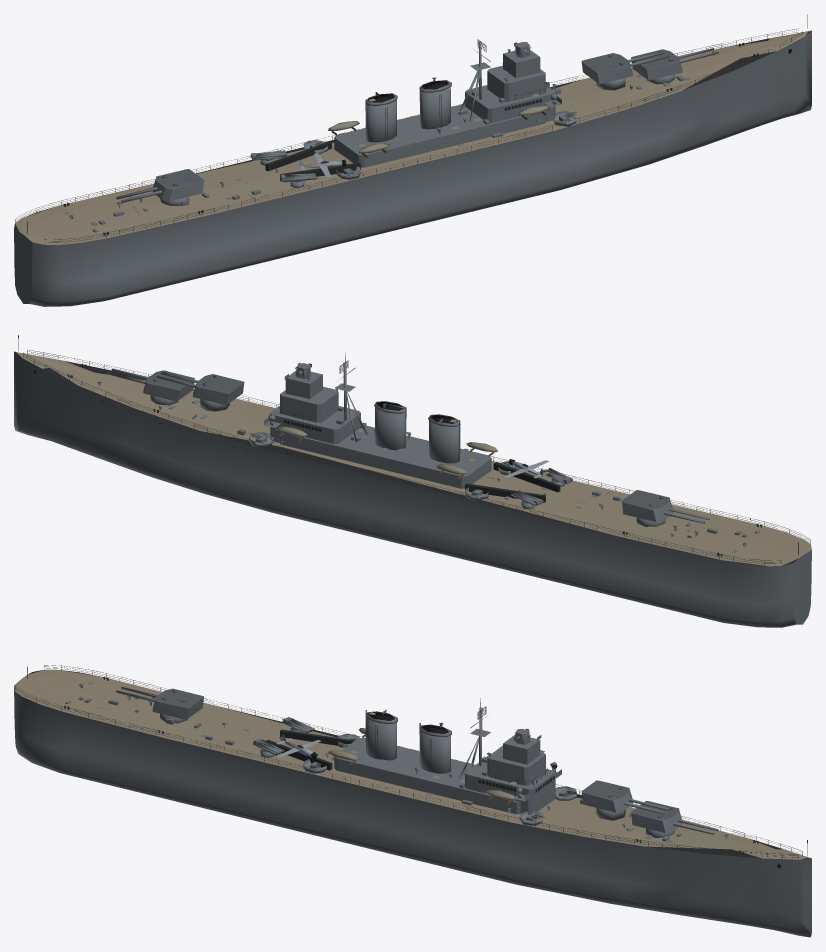
Rendered from exeter_lod.glb.
3 views of the same model, one above another, from view 1: azimuth 30°, elevation 25°; view 2: azimuth 150°, elevation 25°; view 3: azimuth 330°, elevation 25° (orthographic).
Visible parts, largest first — view 1: exeter_lod; view 2: exeter_lod; view 3: exeter_lod.
Part boxes in pixels (box(x1,y1,x2,y2)): exeter_lod: box(14, 14, 811, 306); exeter_lod: box(14, 335, 811, 627); exeter_lod: box(14, 665, 811, 937).
Size of the model in its own units: 175 by 35 by 18.75.
